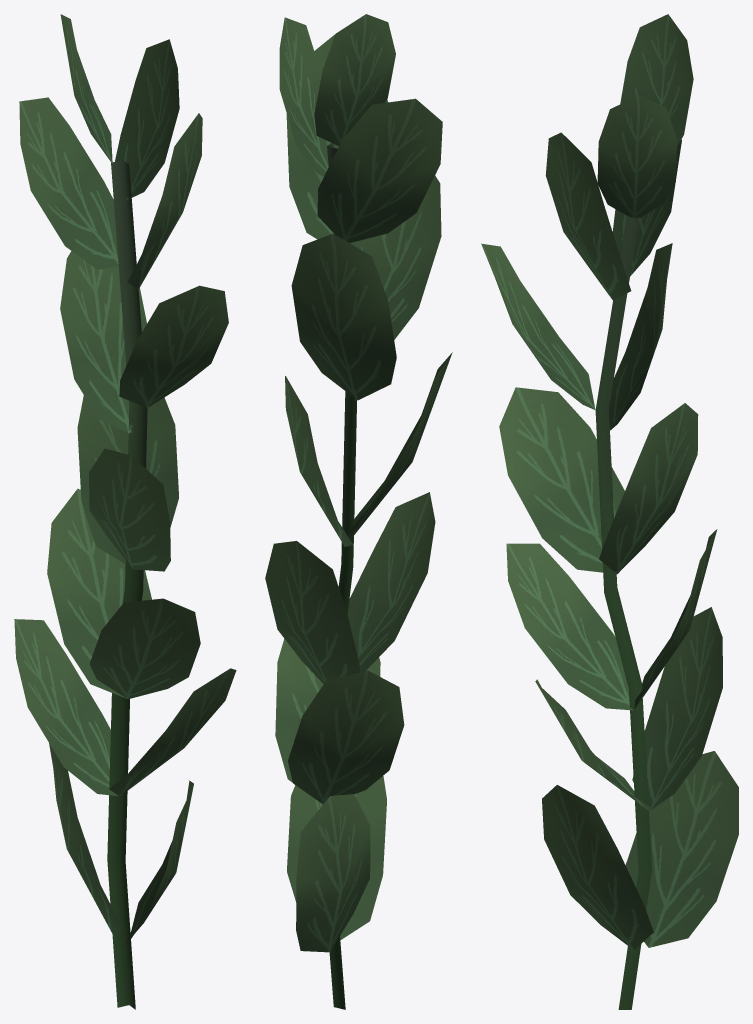
Rendered from milkweedPlant_A.fbx.
The picture shows the model from 3 angles, left to right: view 1: azimuth 30°, elevation 25°; view 2: azimuth 150°, elevation 25°; view 3: azimuth 270°, elevation 25°; orthographic projection. The views are drawn at different scales.
Parts seen in each view (by area): view 1: milkweedLeafPlant_A_001_geo; view 2: milkweedLeafPlant_A_001_geo; view 3: milkweedLeafPlant_A_001_geo.
Boxes of the visible parts, <box> form: milkweedLeafPlant_A_001_geo: <box>14,14,236,1009</box>; milkweedLeafPlant_A_001_geo: <box>265,14,452,1009</box>; milkweedLeafPlant_A_001_geo: <box>481,14,738,1009</box>.
Size of the model in its own units: 31.22 by 161 by 38.81.
Materials: 1 (1 with a texture image).
